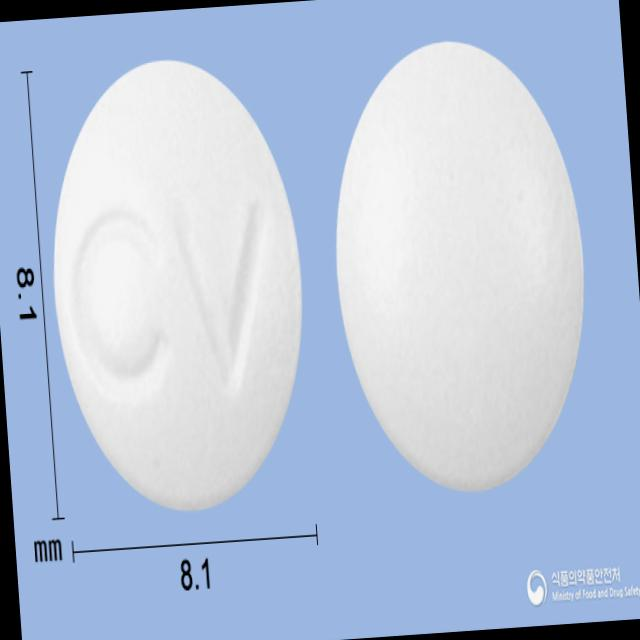Jeil Cravit: (37, 46, 318, 520)
